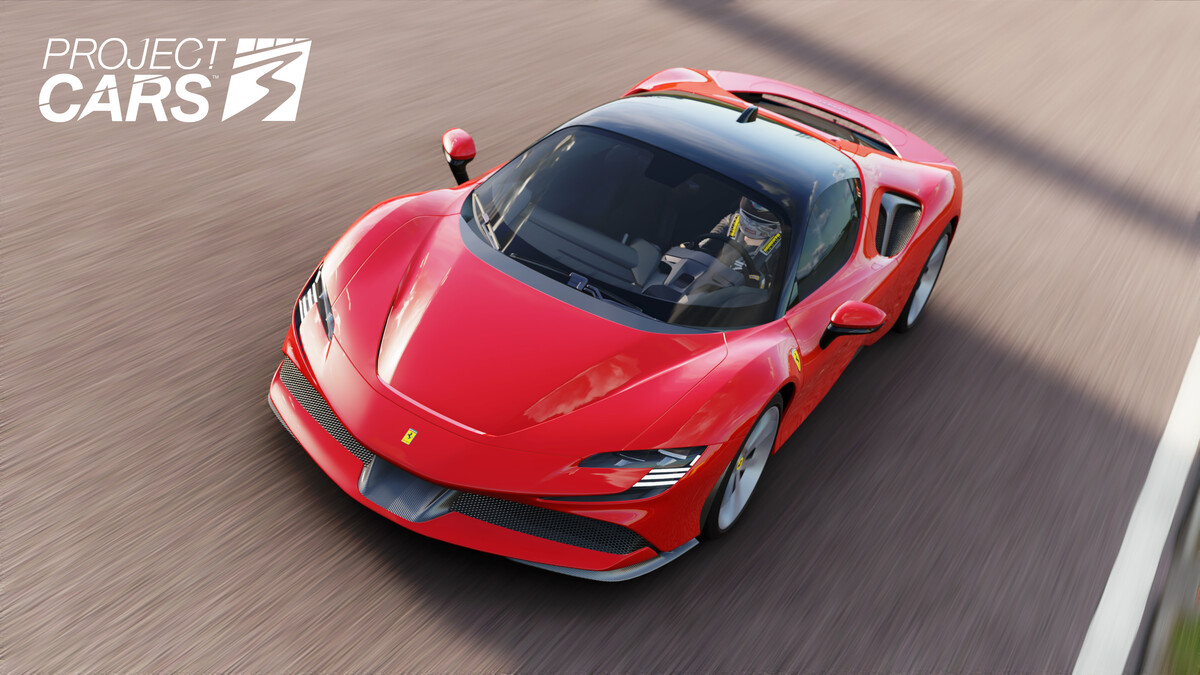other: (256, 43, 966, 595)
